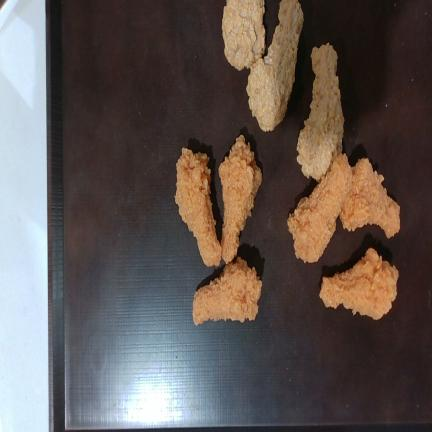chicken: (246, 0, 303, 131), (287, 154, 352, 262), (297, 43, 344, 181), (218, 135, 262, 263), (174, 148, 221, 266), (320, 248, 398, 319), (340, 158, 400, 238), (193, 257, 262, 325), (222, 0, 265, 70)
